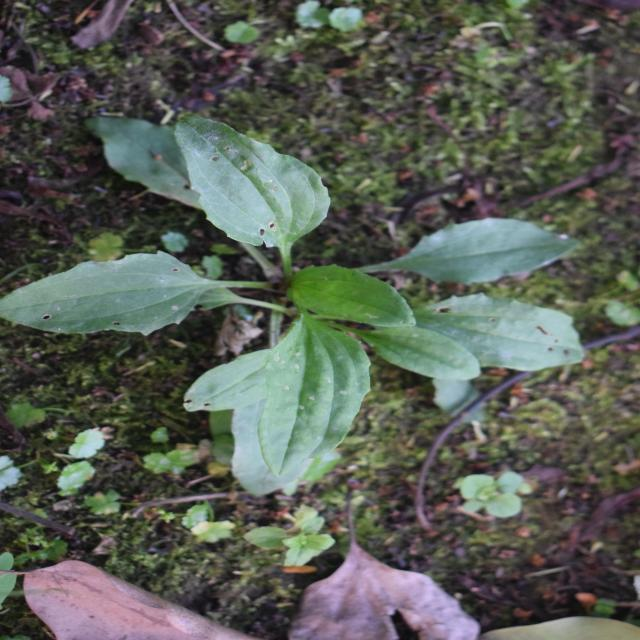plantain: (138, 43, 489, 603)
